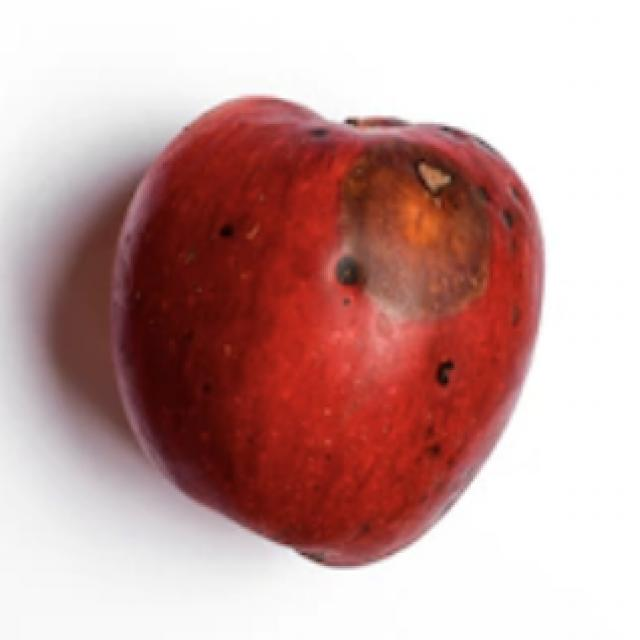rotten_apple: (103, 89, 547, 566)
